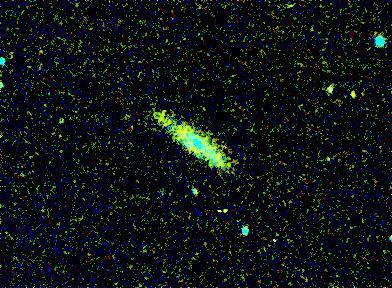star: (198, 197, 228, 227)
